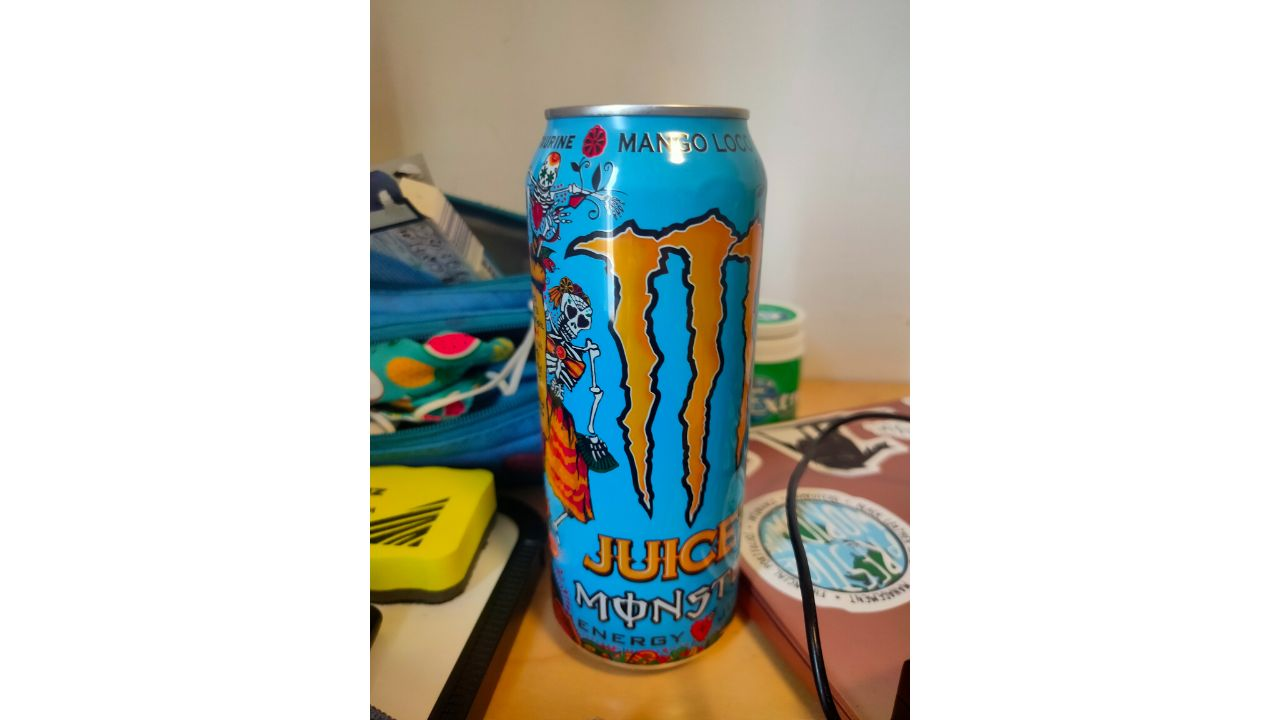Can: (525, 101, 765, 669)
